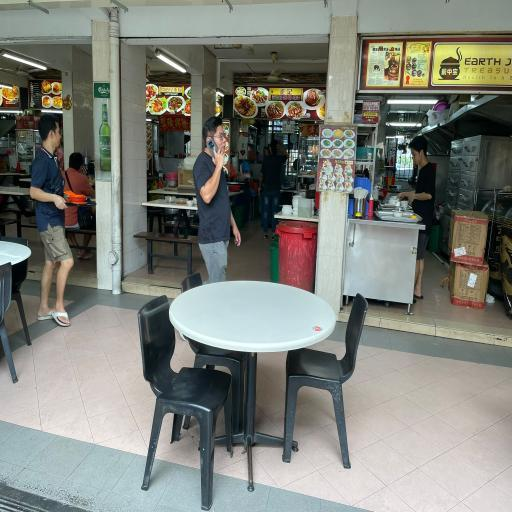person_right: (28, 114, 82, 332), (190, 112, 246, 280)
